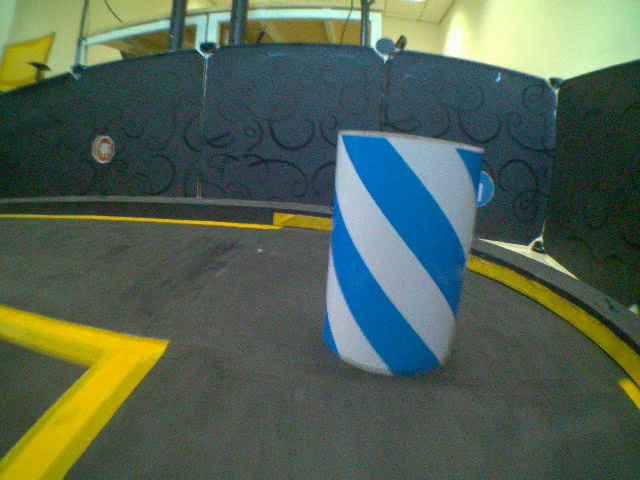bucket: (318, 129, 486, 381)
